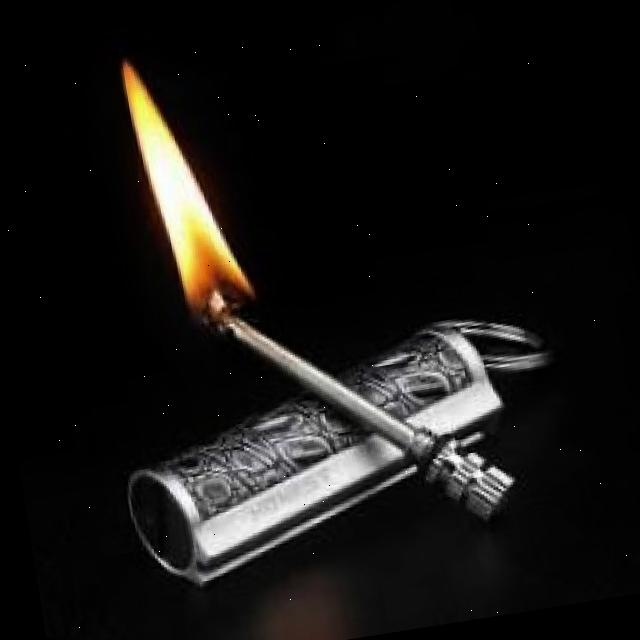fire: (120, 48, 256, 330)
